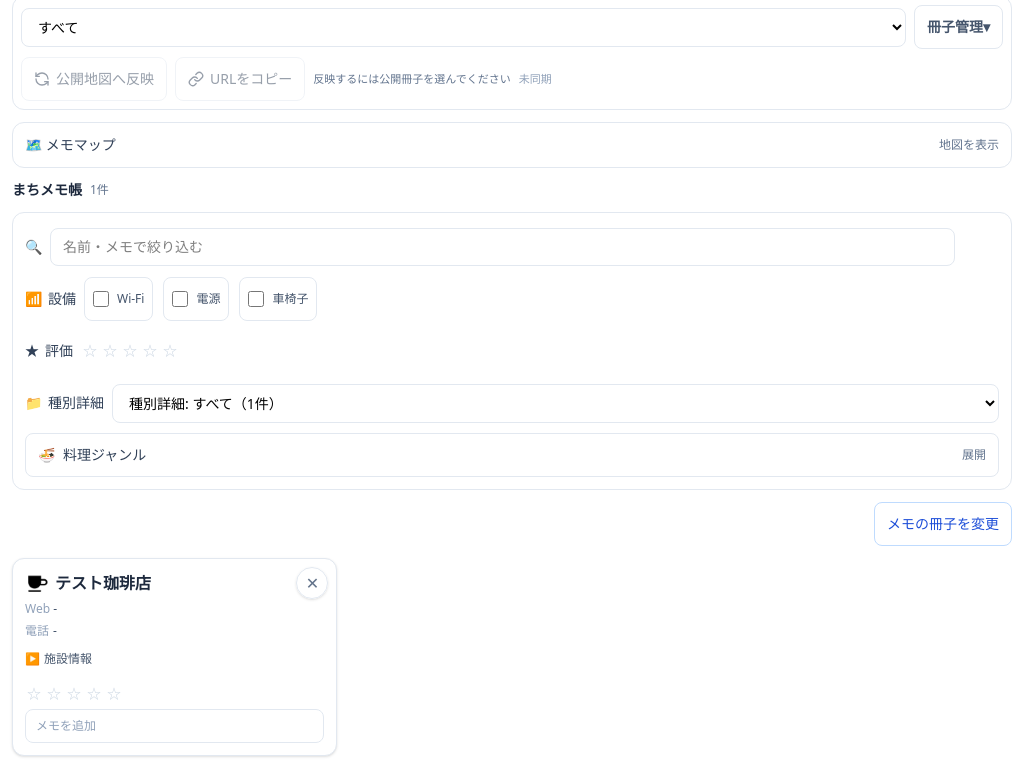
Test: MemochoSection: コンテキストメニューと最大化（ピースO） › カードの右クリックでメニューが開き、「最大化」「登録削除」の2項目が出る
(page scrolled)
Step 1. Right-click the element with id "memocho-card-node" → coordinates (175, 657), box [12,558,337,756]
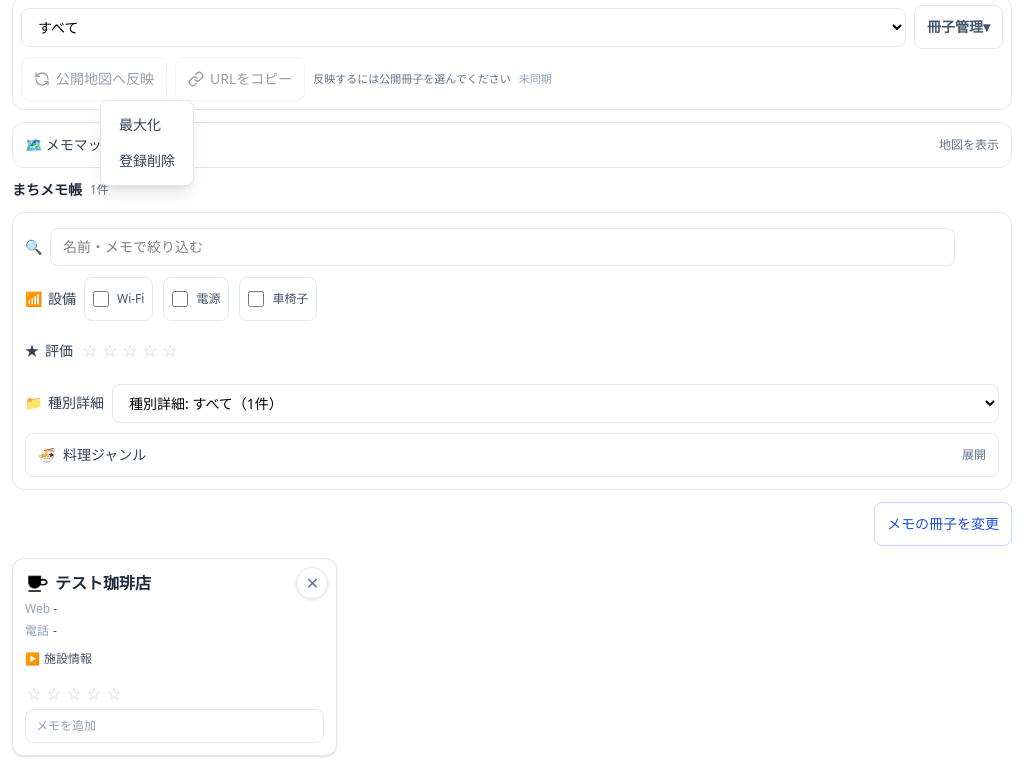
expect the menu is shown: met, box [100,100,194,186]
expect the menu item "最大化" is shown: met, box [107,107,187,143]
expect the menu item "登録削除" is shown: met, box [107,143,187,179]
